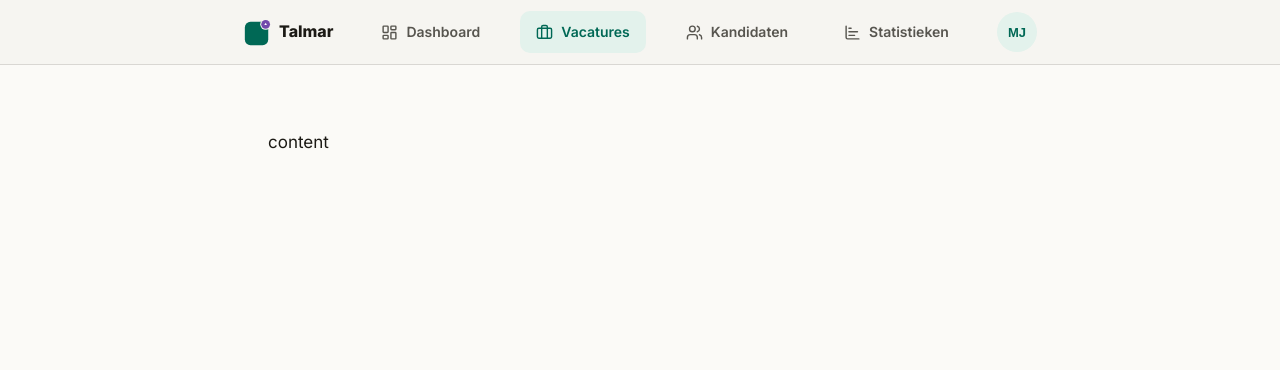
AppShell › toggles the menu closed when the avatar is clicked again
Click the button "MJ": {"x": 1017, "y": 32} [997,12,1037,52]
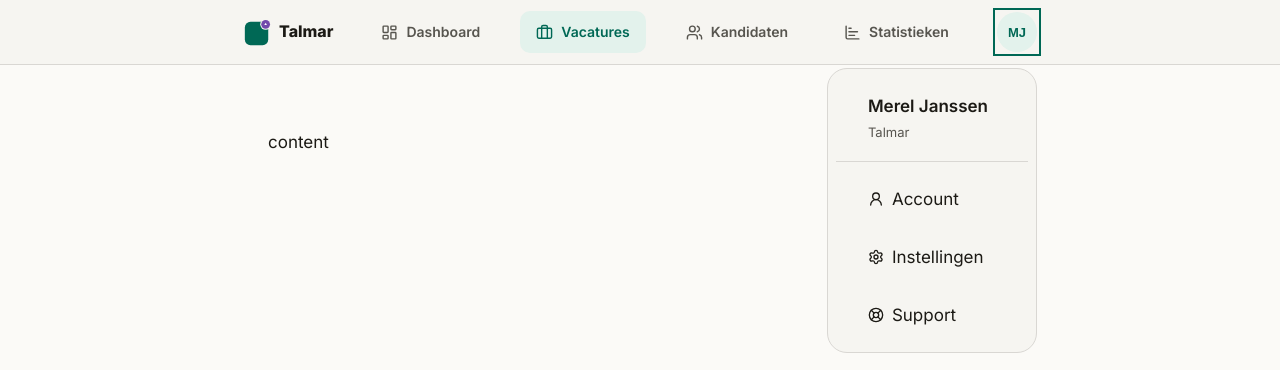
Now the menu named "Accountmenu" is shown, box [827,68,1037,353]
Click the button "MJ": {"x": 1017, "y": 32} [997,12,1037,52]
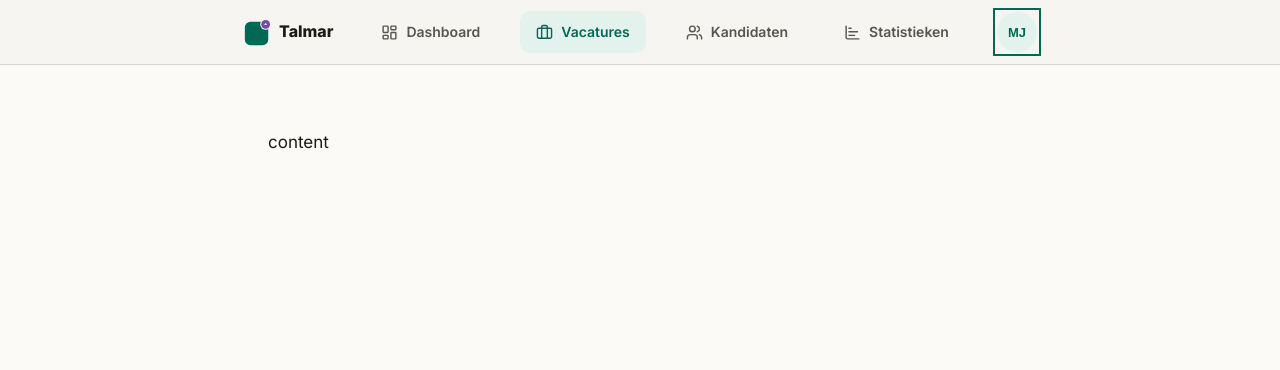
Now the menu "Accountmenu" is gone
